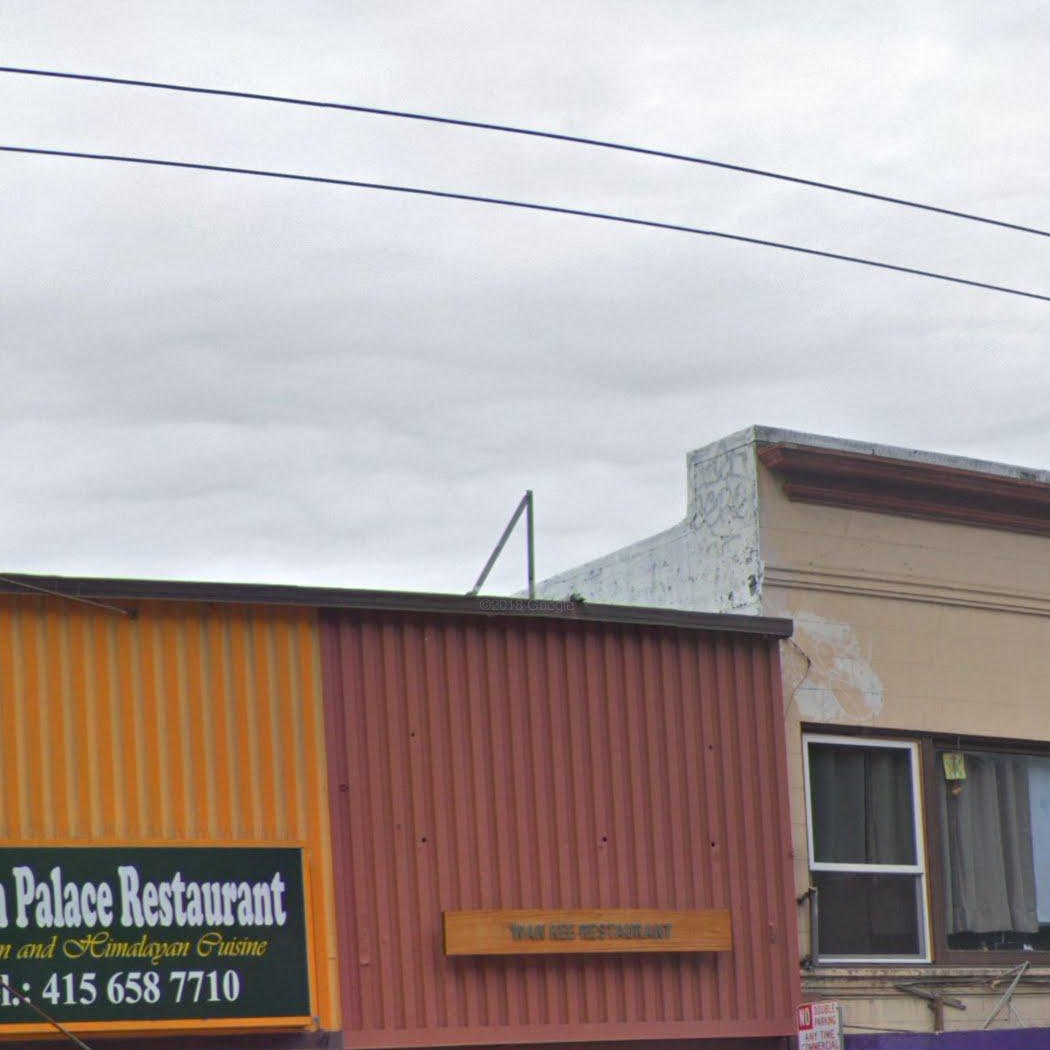No Parking: (794, 999, 843, 1050)
